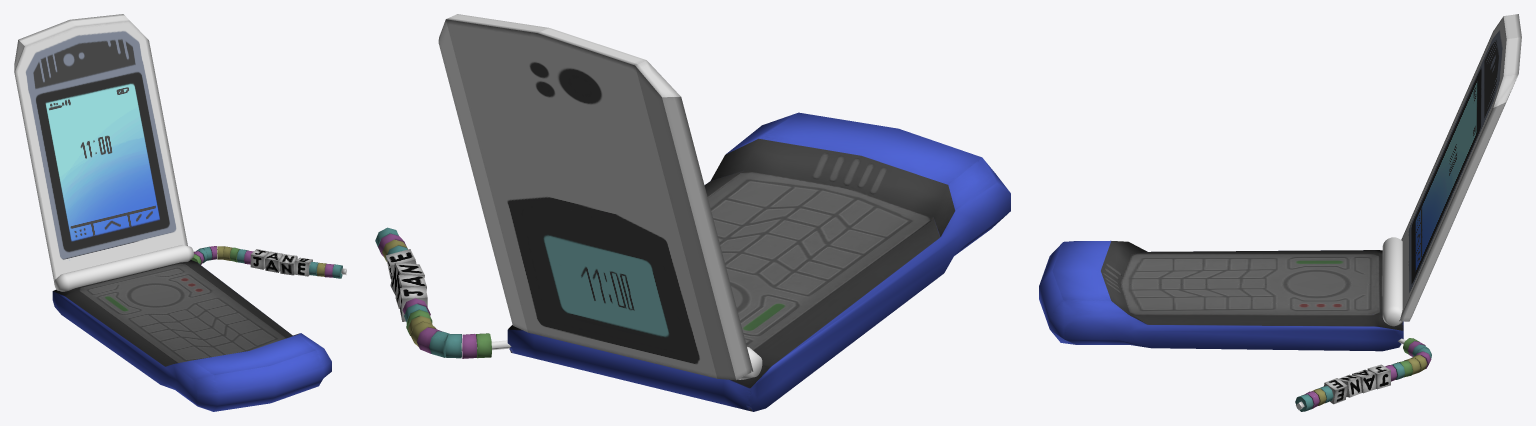
The model's file is phone v2.fbx.
3 views of the same model, side by side, from view 1: azimuth 30°, elevation 25°; view 2: azimuth 150°, elevation 25°; view 3: azimuth 270°, elevation 25° (orthographic). The views are drawn at different scales.
Visible parts, largest first — view 1: Cylinder.026; view 2: Cylinder.026; view 3: Cylinder.026.
Boxes of the visible parts, x1,y1,x2,y2 form: Cylinder.026: (14, 14, 346, 411); Cylinder.026: (375, 14, 1010, 411); Cylinder.026: (1039, 14, 1521, 411).
Bounding box in the file's own units: 42.85 × 38.57 × 60.98.
Materials: 7 (5 with a texture image).
